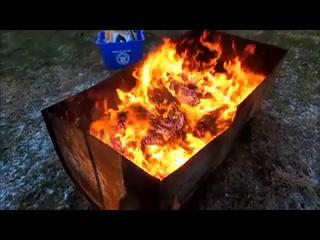fire: (95, 31, 268, 182)
